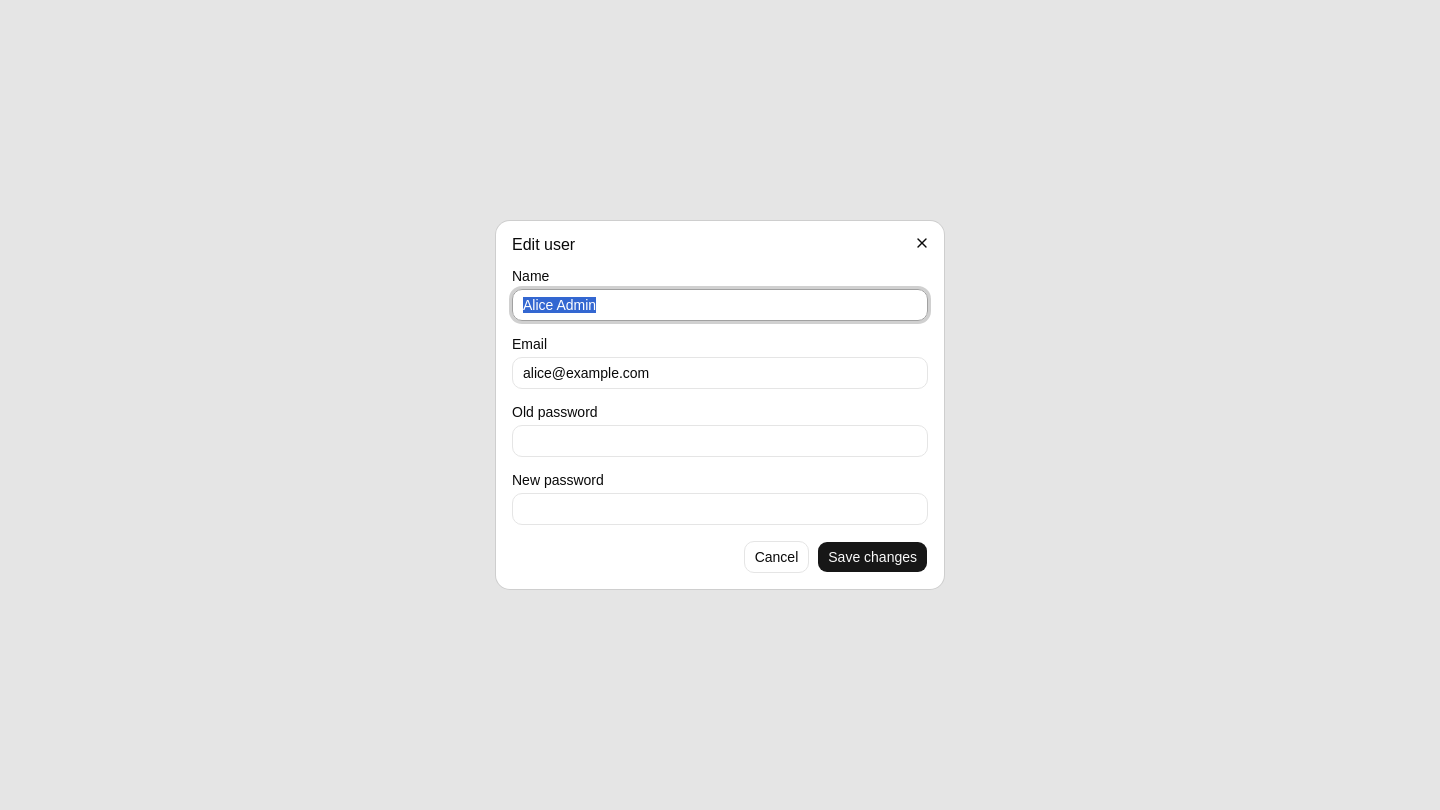
Scenario: EditUserDialog › shows validation error when name is too short
Replace the text in the field labelled "Name" with "ab": (720, 305) [512,289,928,321]
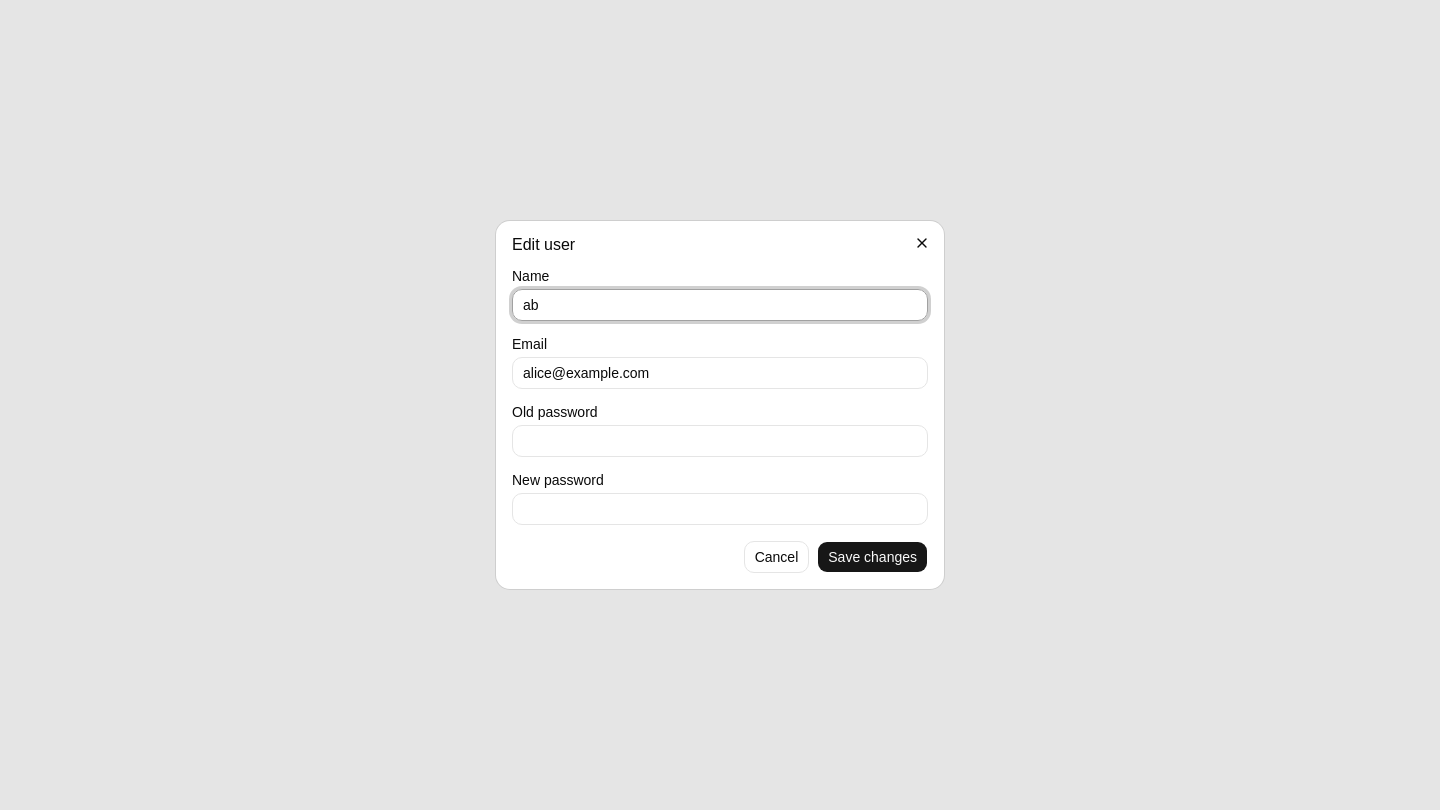
Click the button "Save changes": (873, 557) [817,541,928,573]
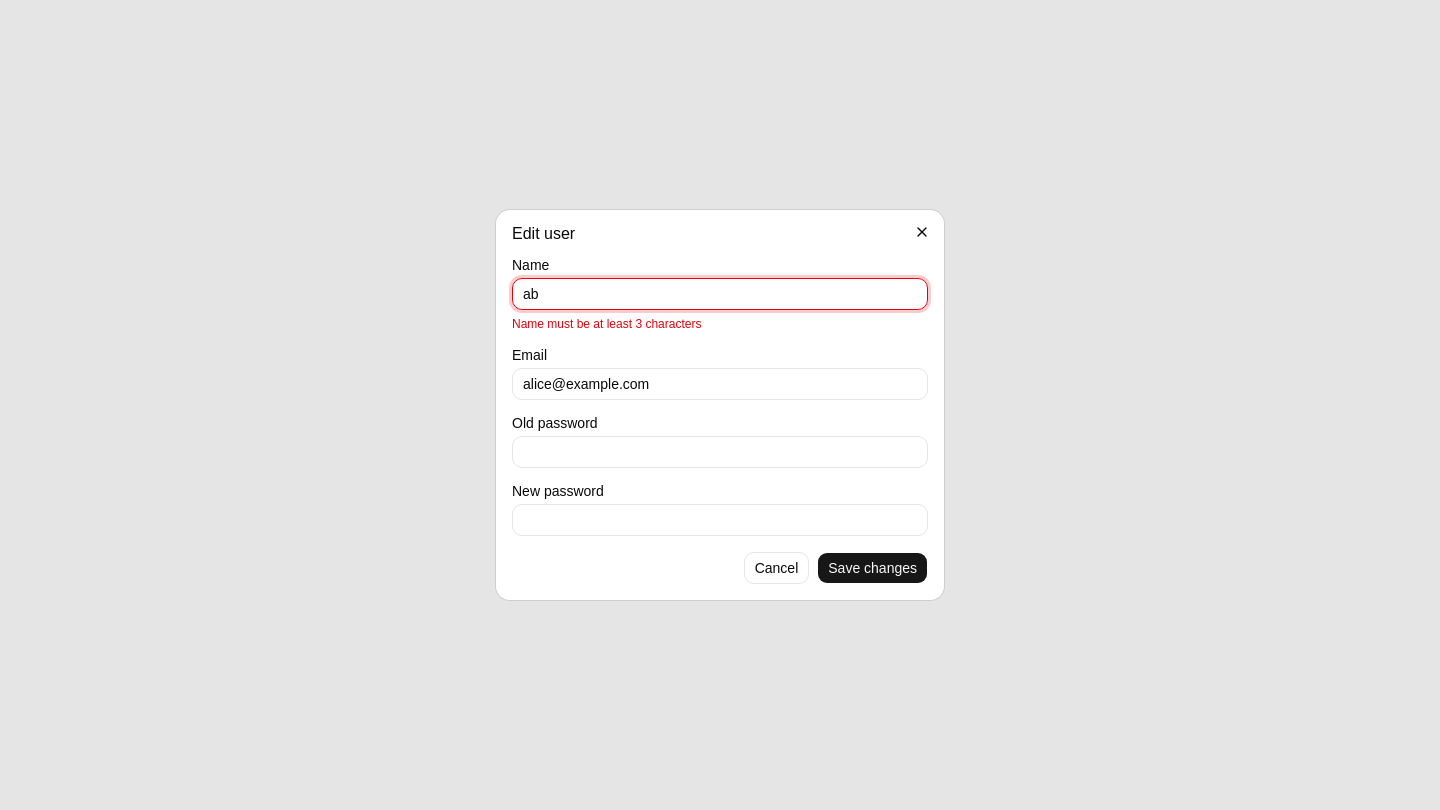
Result: the text "Name must be at least 3 characters" is shown at [512,317,701,331]
